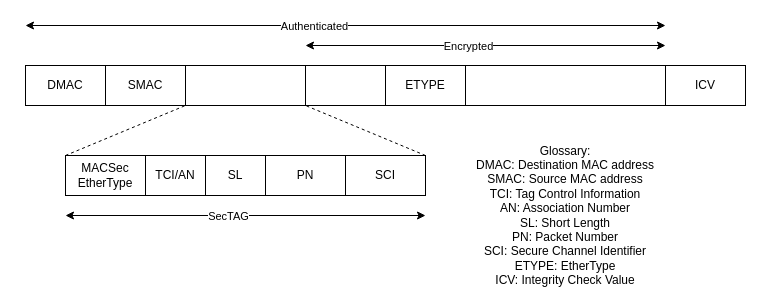
The diagram is 763 pixels wide and 305 high, and some of its shapes have lost their labels. Here are the shapes that lost their labels. From the top down, the centre of each, then its label:
At (245,85): "802.1AE Header".
At (345,85): "VLAN tag".
At (565,85): "Payload".
